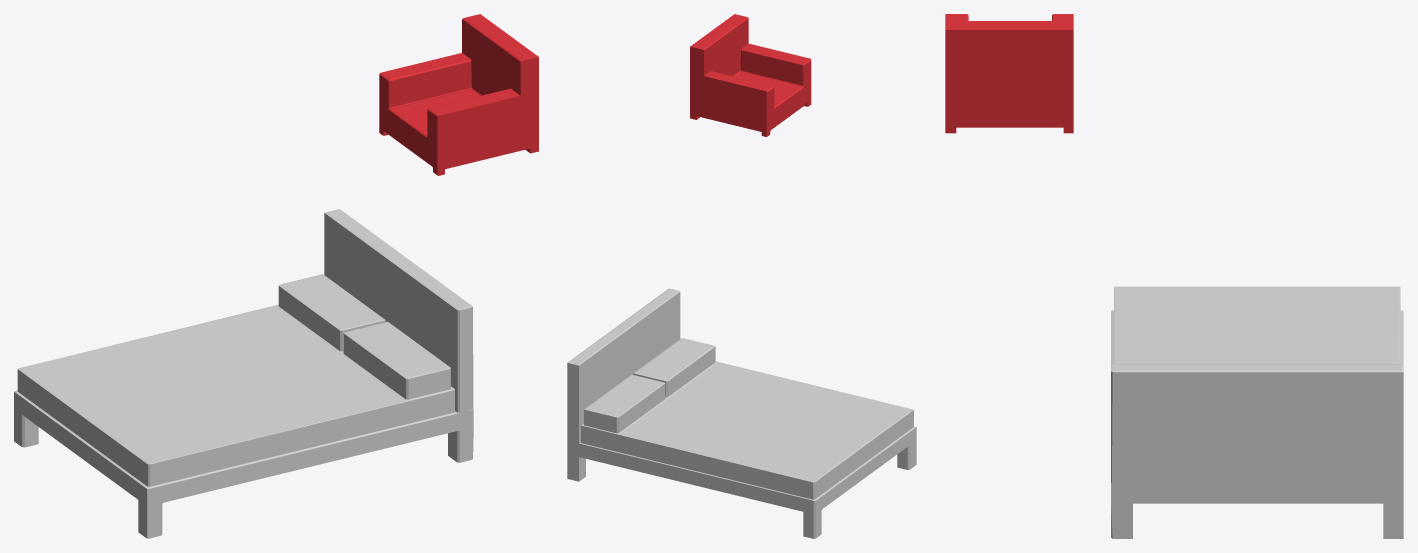
The model's file is cama.glb.
3 views of the same model, side by side, from view 1: azimuth 30°, elevation 25°; view 2: azimuth 150°, elevation 25°; view 3: azimuth 270°, elevation 25° (orthographic). The views are drawn at different scales.
Parts seen in each view (by area): view 1: Plane.001, Plane; view 2: Plane.001, Plane; view 3: Plane.001, Plane.
Part boxes in pixels (bbox=[...]): Plane.001: bbox=[14, 209, 473, 538]; Plane: bbox=[379, 14, 538, 175]; Plane.001: bbox=[567, 288, 916, 538]; Plane: bbox=[690, 14, 811, 136]; Plane.001: bbox=[1111, 286, 1403, 538]; Plane: bbox=[945, 14, 1073, 133].
Bounding box in the file's own units: 13.4 × 18.09 × 14.92.
